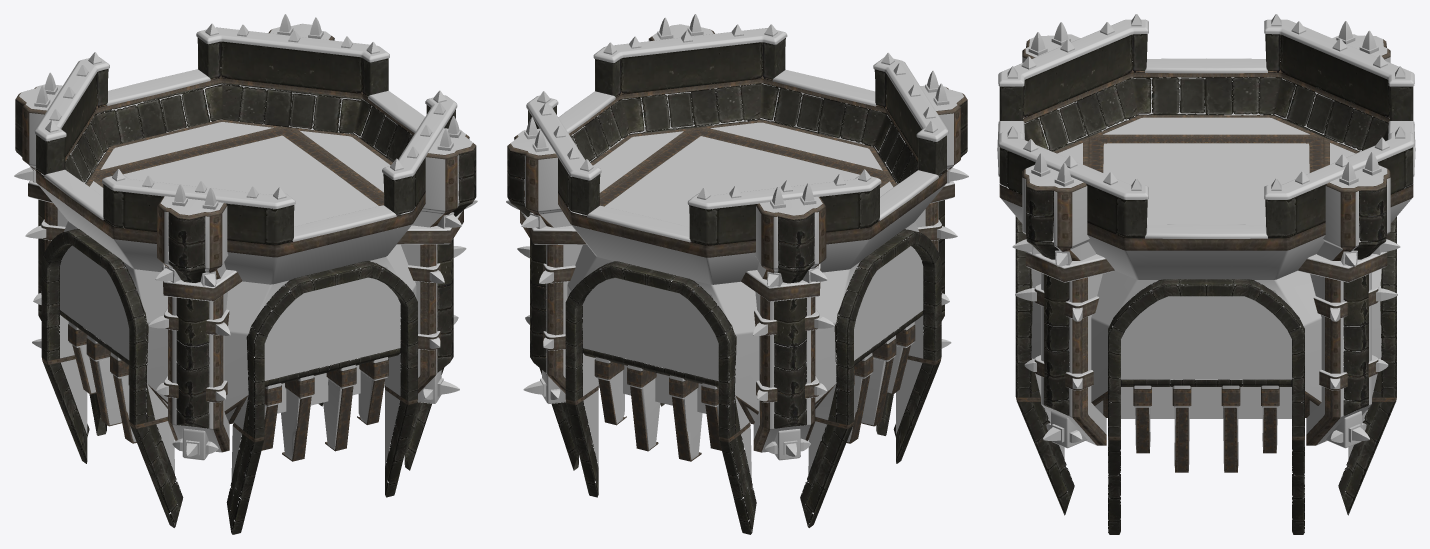
The picture shows the model from 3 angles, left to right: view 1: azimuth 30°, elevation 25°; view 2: azimuth 150°, elevation 25°; view 3: azimuth 270°, elevation 25°; orthographic projection. The views are drawn at different scales.
Visible parts, largest first — view 1: SM_Dowdun_Tower_Turret_01_LOD0; view 2: SM_Dowdun_Tower_Turret_01_LOD0; view 3: SM_Dowdun_Tower_Turret_01_LOD0.
Part boxes in pixels (<box>): SM_Dowdun_Tower_Turret_01_LOD0: <box>14,14,477,534</box>; SM_Dowdun_Tower_Turret_01_LOD0: <box>506,14,968,534</box>; SM_Dowdun_Tower_Turret_01_LOD0: <box>997,14,1415,534</box>.
Size of the model in its own units: 17.78 by 17.89 by 17.69.
